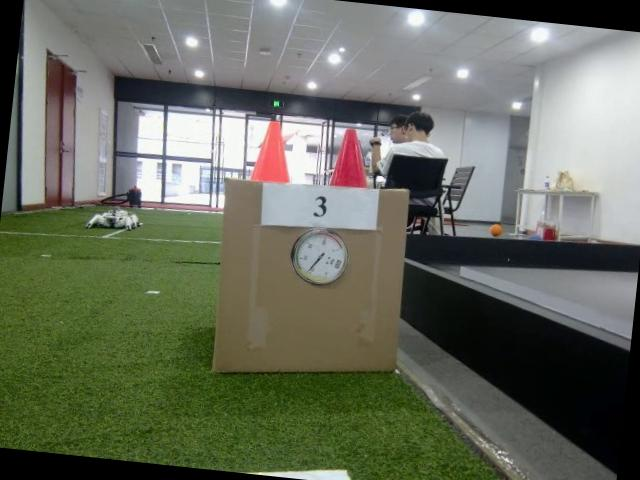3: (313, 194, 329, 218)
Dashboard: (288, 228, 349, 289)
orange_barrel: (248, 118, 294, 183)
red_ball: (328, 126, 374, 190)
ssi: (334, 259, 342, 271)
